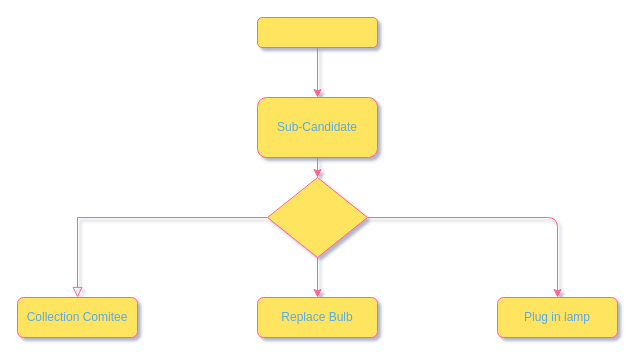
Image size: 641x361. Some labels were removed from this diagram. Each missing label, with the centre of its shape:
"Advertiser" goes at pixel 317 217.
"Candidate" goes at pixel 317 32.
